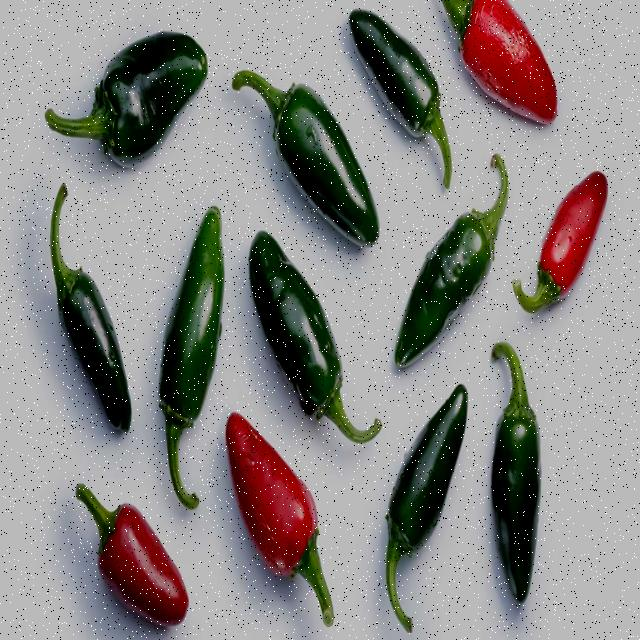Chili Pepper: (249, 231, 381, 444), (232, 69, 379, 243), (226, 413, 334, 627), (386, 384, 468, 633), (50, 184, 131, 431), (45, 32, 206, 156), (159, 207, 224, 509), (76, 484, 188, 625), (396, 211, 495, 366), (443, 0, 558, 122), (514, 171, 608, 312), (493, 342, 542, 602)
